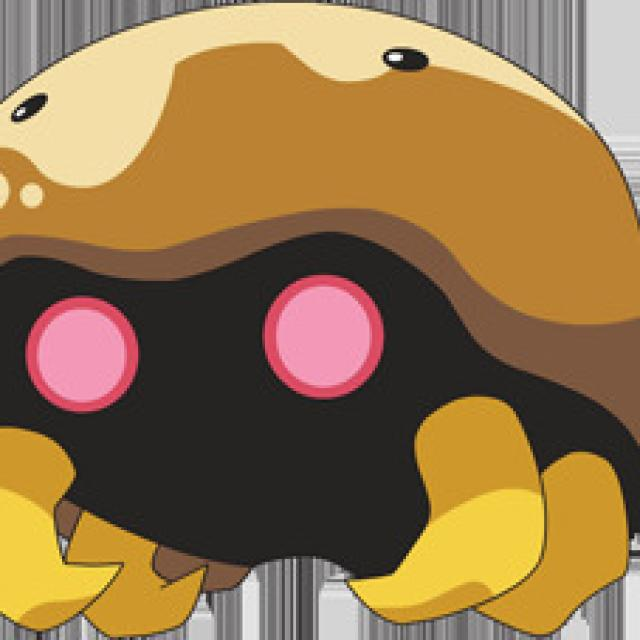Kabuto: (0, 0, 634, 629)
